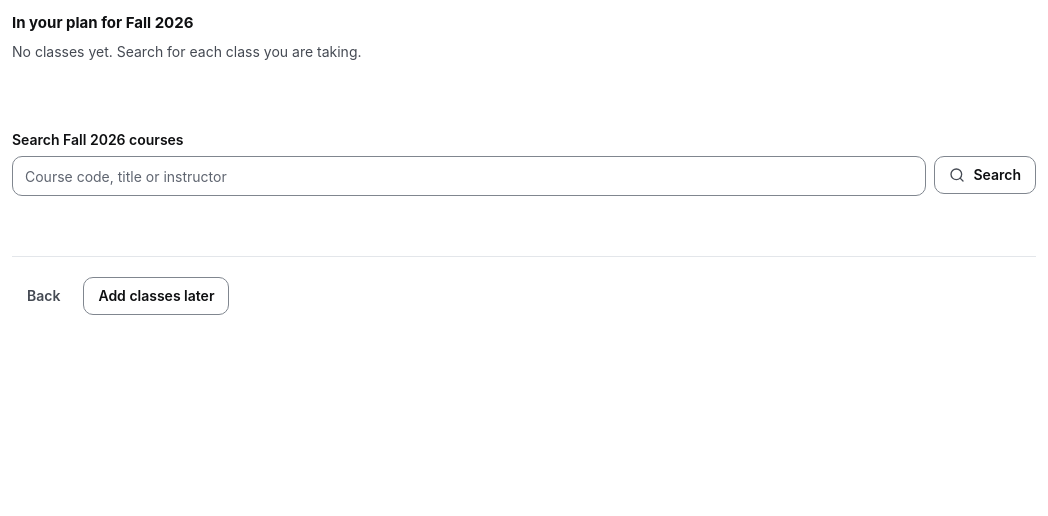
Test: ClassesStep (step 2) › auto-selects the only section and adds it with its CRN
Type "his 357" into the search field labelled "Search Fall 2026 courses". click: (469, 176)
box: [12, 156, 926, 196]
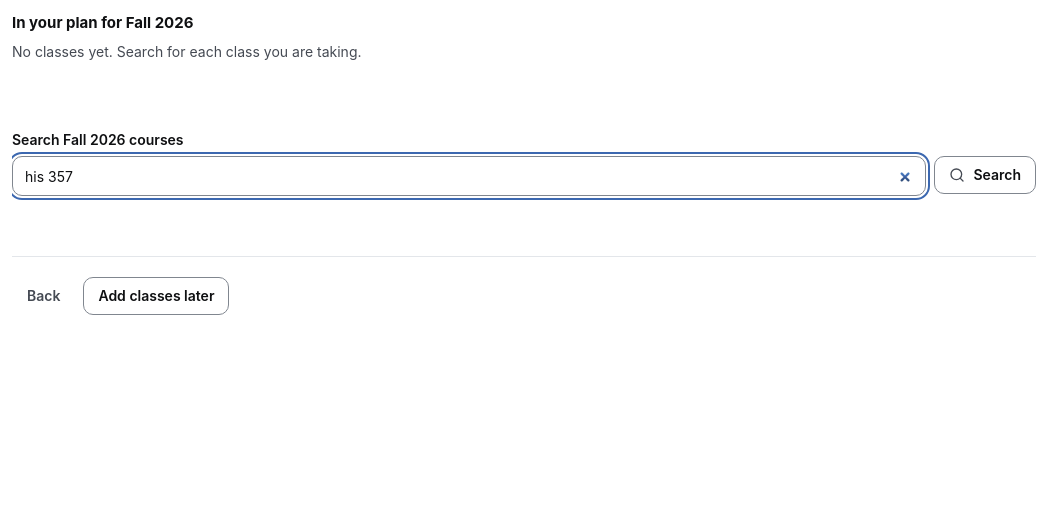
Click the button "Search". click: click(985, 175)
box: [934, 156, 1036, 194]
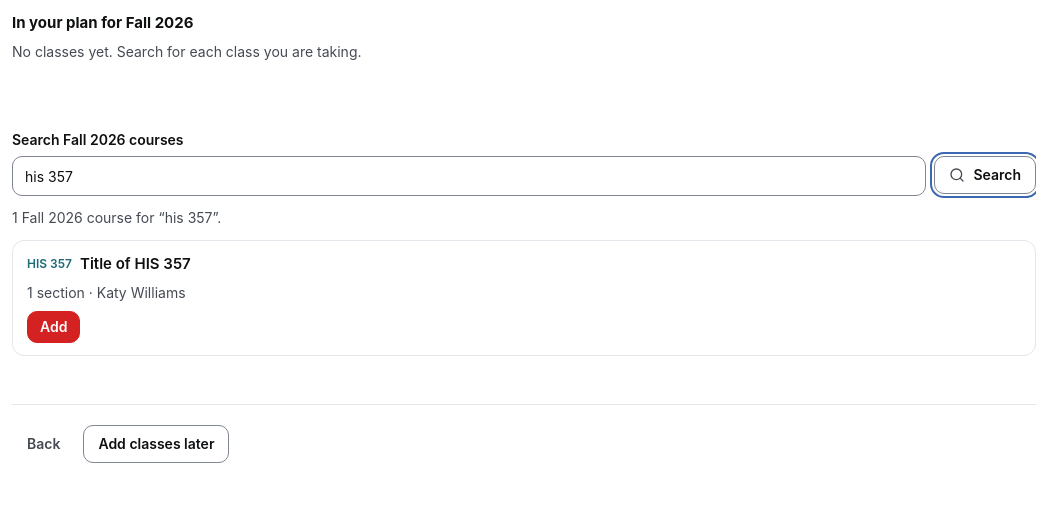
Click the button with aria-label "Add for HIS 357". click: click(54, 327)
box: [27, 311, 80, 343]
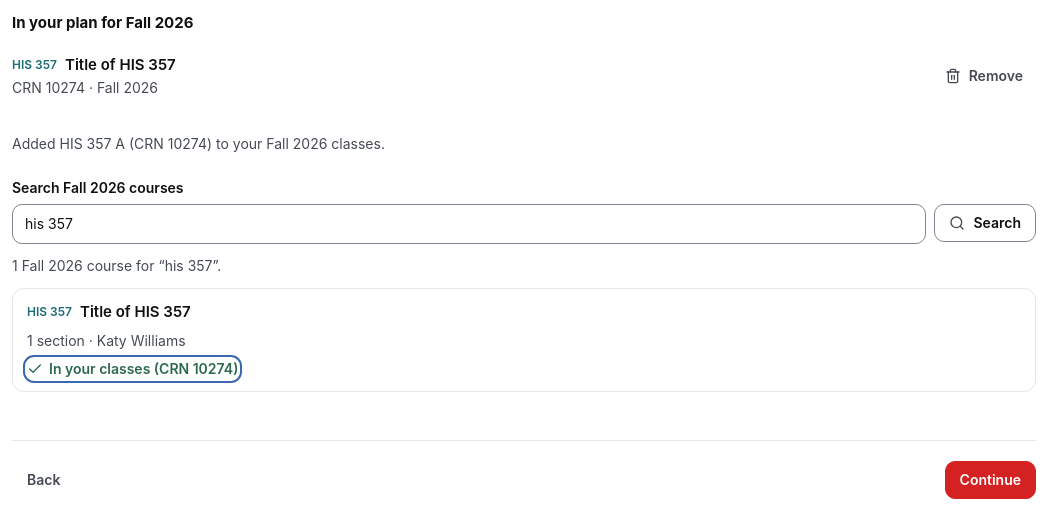
Expected: the text "Added HIS 357 A (CRN 10274) to your Fall 2026 classes." is shown, [12, 135, 385, 152]
Expected: the text "Title of HIS 357" below "In your plan for" is shown, [65, 55, 176, 74]
Expected: the text "CRN 10274 · Fall 2026" is shown, [12, 78, 176, 98]
